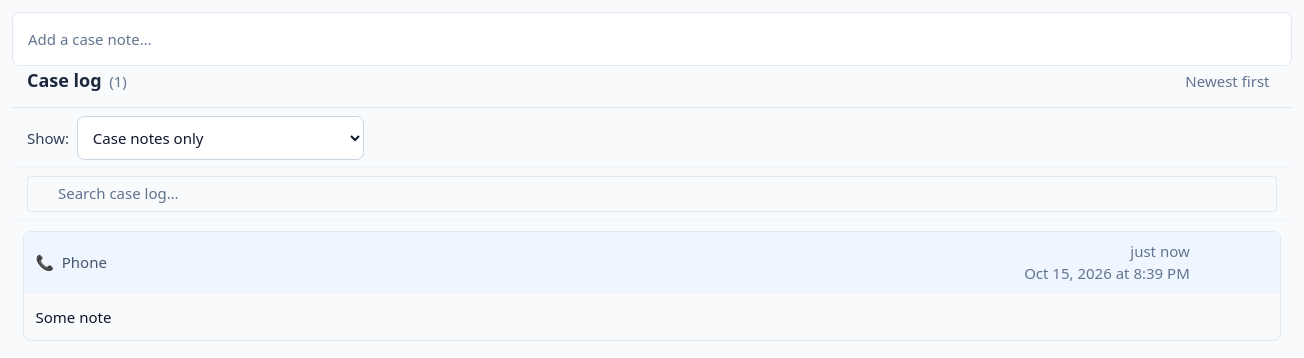
Test: CaseLog › with "Changes only" showing nothing, does not claim the record has no notes
Expected: the text "Some note" is shown, [36,306,111,326]
Select "Column changes only" in the dropdown named "What to show" at (220, 138), box [77,116,364,160]
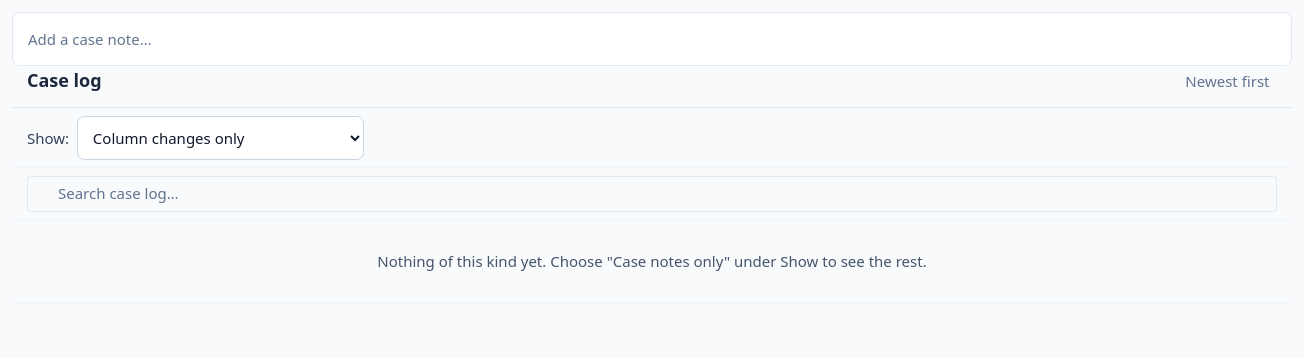
Expected: the text "Nothing of this kind yet" is shown, [377,251,927,271]
